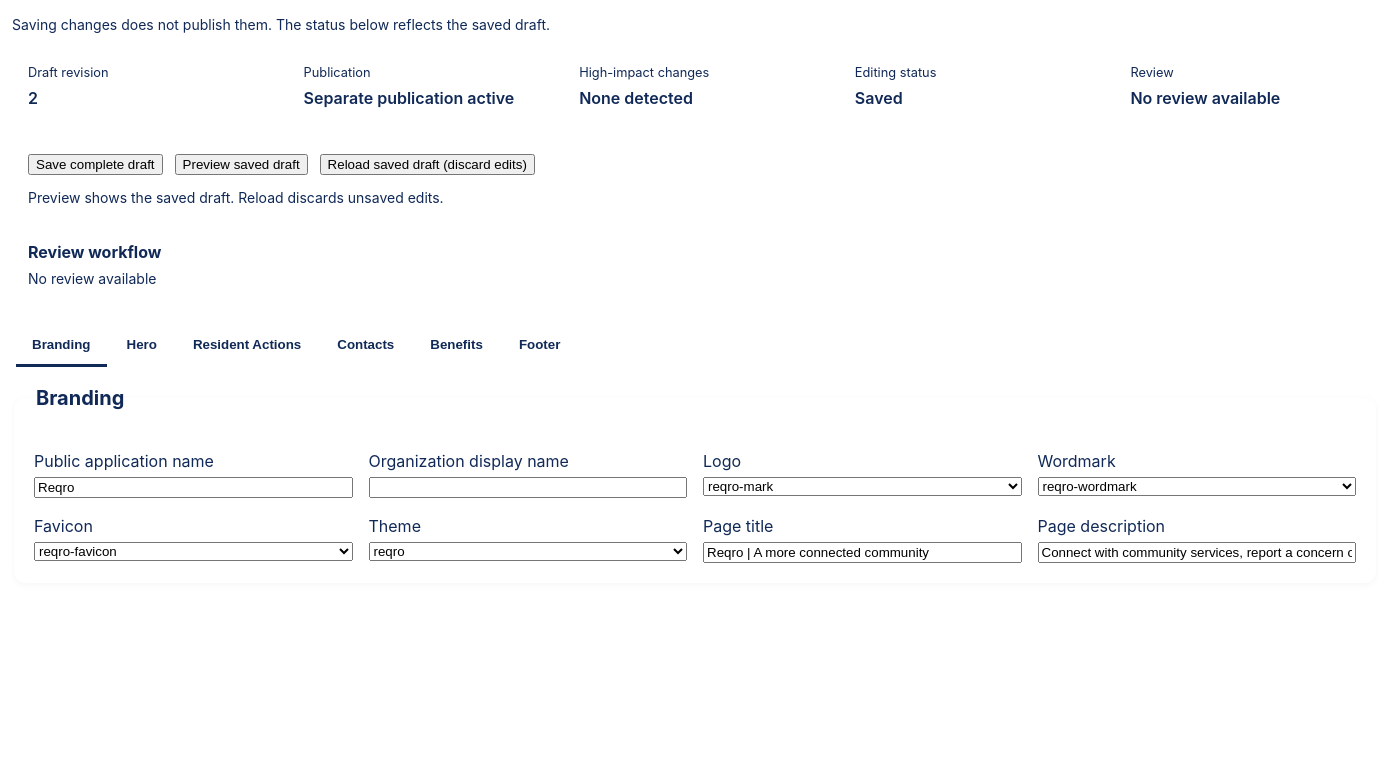
contact authority enables structured editing and derives dialing target from display number
Click the tab "Contacts": (366, 346) [321,325,410,367]
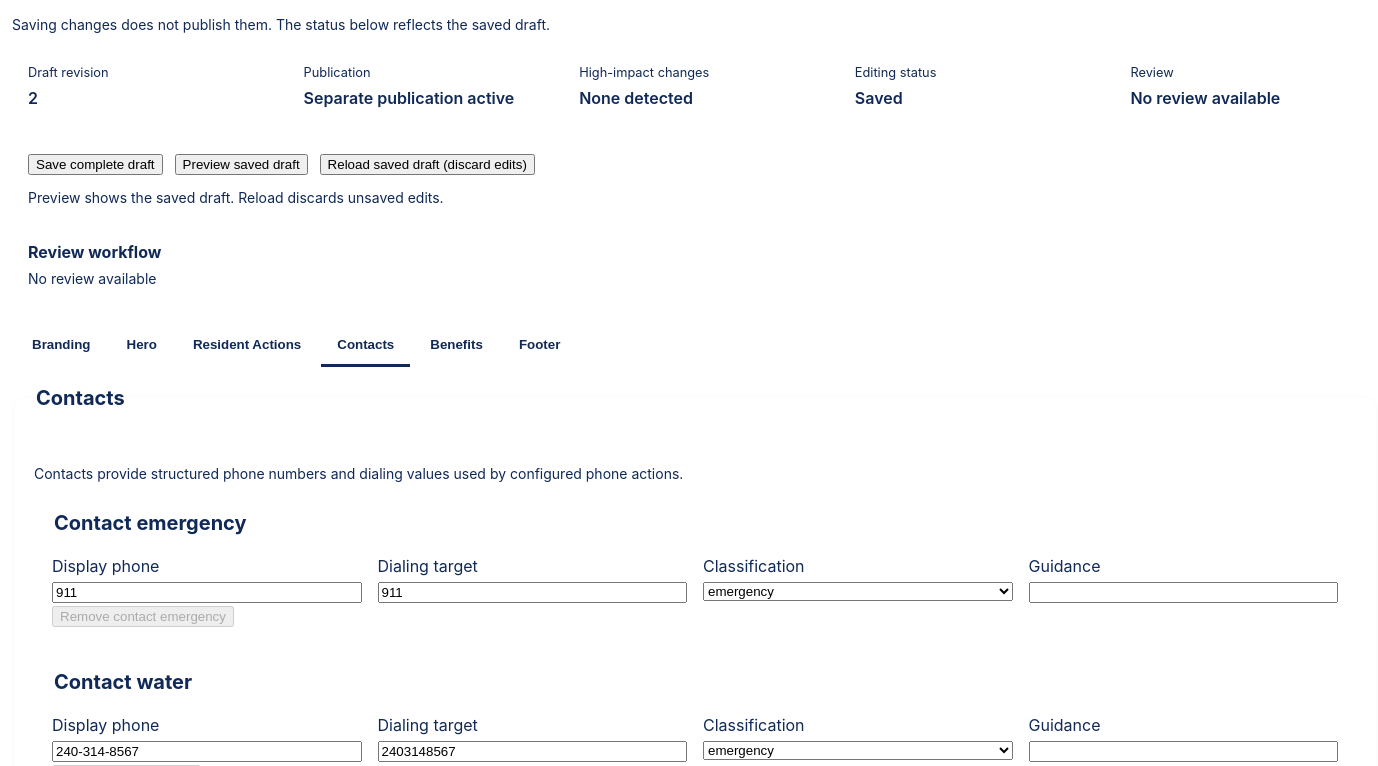
Replace the text in the 2nd field labelled "Display phone" with "202-555-0100": (207, 752) [52,741,362,762]
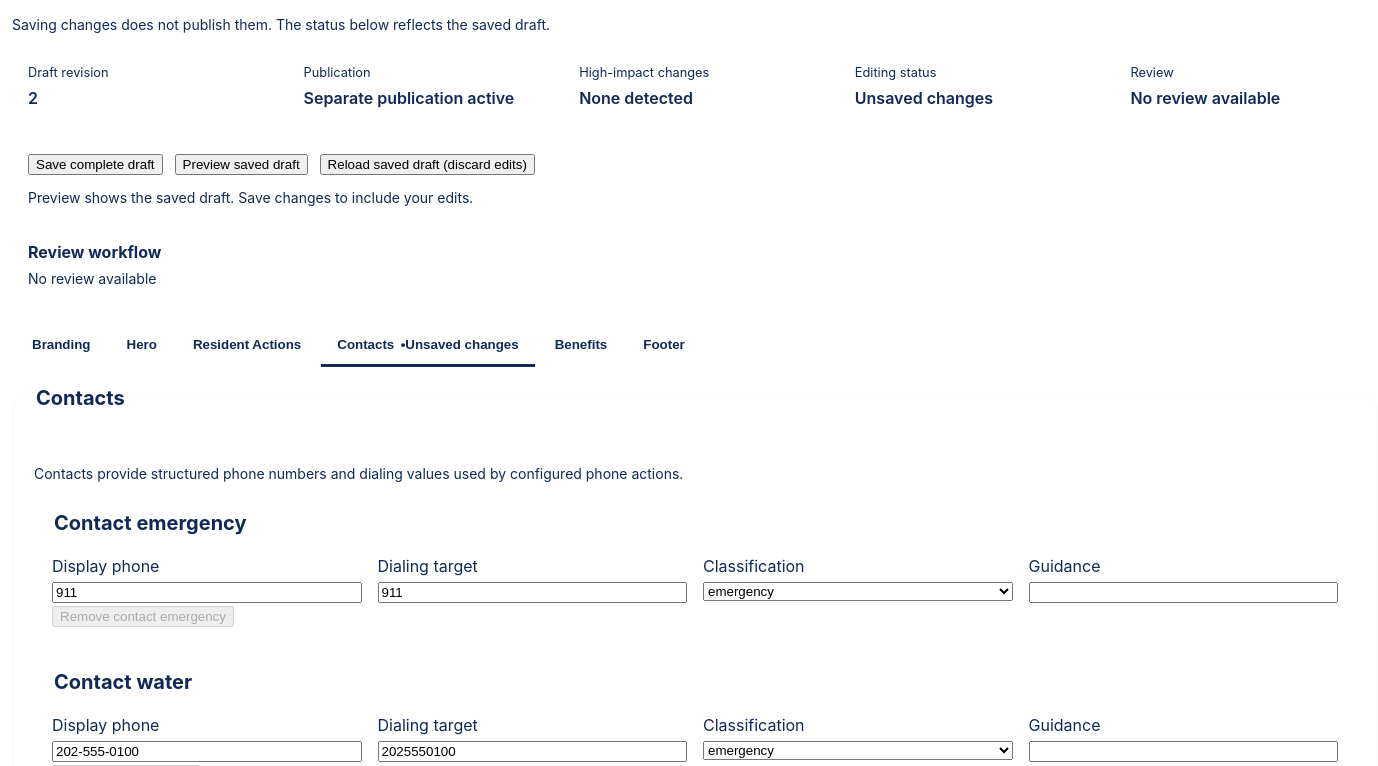
Check: the 2nd field labelled "Dialing target" holds "2025550100", box [378,741,687,762]
Click the button "Save complete draft": (95, 165) [28,154,162,175]
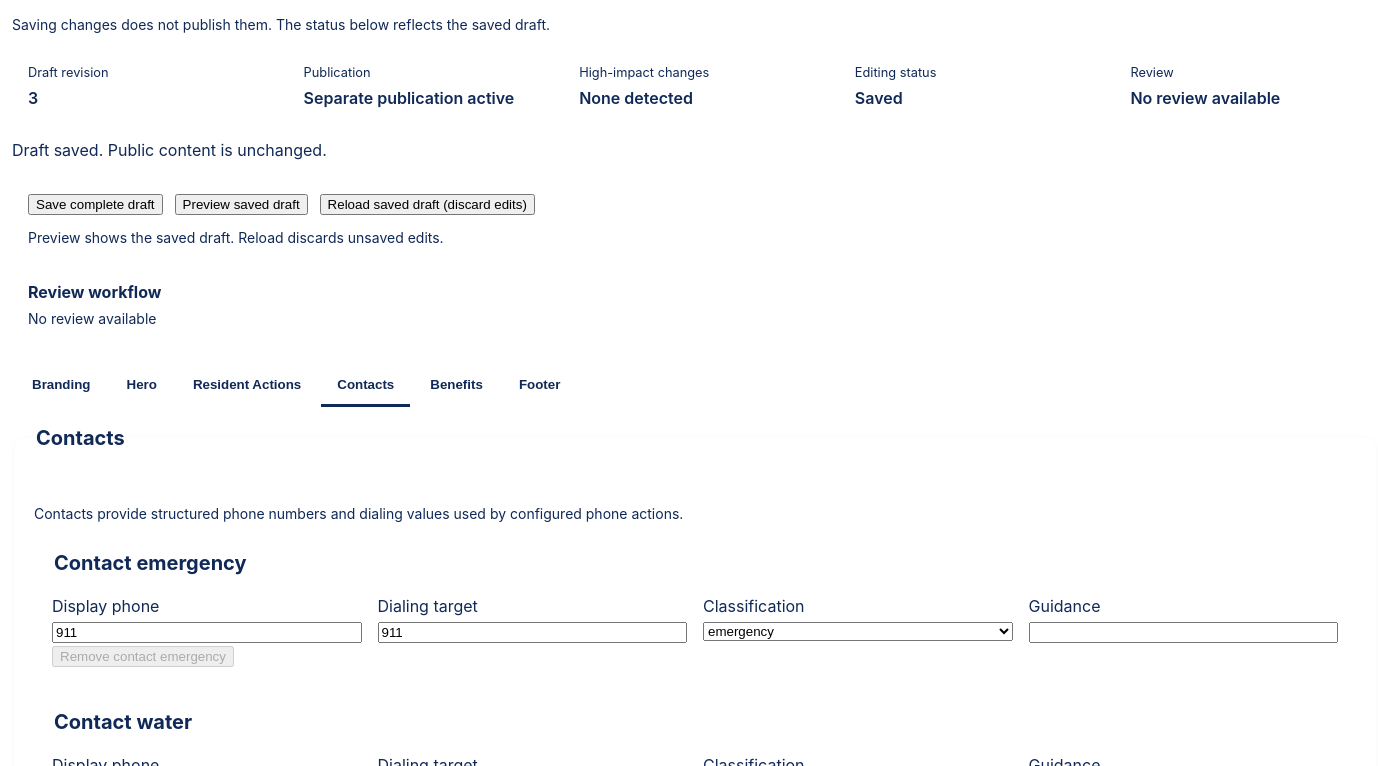
Check: the text "Draft saved. Public content is unchanged." is shown, box [12,140,327,160]
